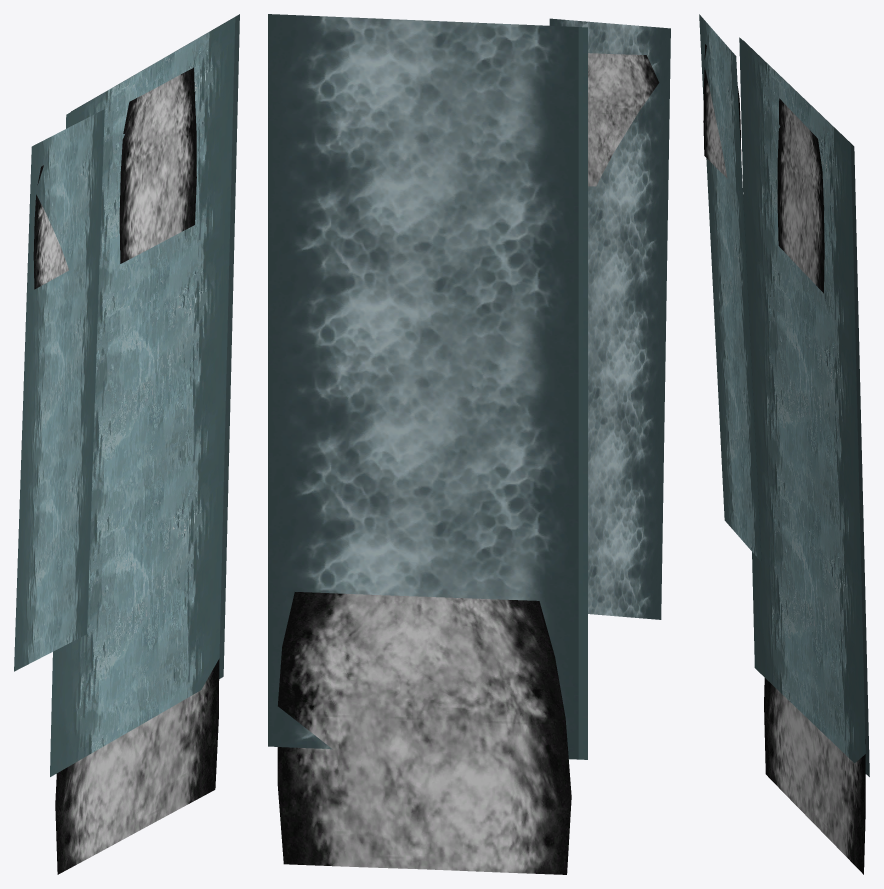
The model's file is dragonblight_combin_waterfall_06.obj.
The picture shows the model from 3 angles, left to right: view 1: azimuth 30°, elevation 25°; view 2: azimuth 150°, elevation 25°; view 3: azimuth 270°, elevation 25°; orthographic projection. The views are drawn at different scales.
Parts seen in each view (by area): view 1: Geoset0, Geoset2, Geoset4, Geoset1, Geoset5; view 2: Geoset5, Geoset4, Geoset3, Geoset0, Geoset1; view 3: Geoset0, Geoset2, Geoset4, Geoset1, Geoset5.
Boxes of the visible parts, x1,y1,x2,y2 form: Geoset0: (50,17,235,776); Geoset2: (14,109,104,671); Geoset4: (55,659,219,874); Geoset1: (33,67,196,289); Geoset5: (71,14,239,678); Geoset5: (268,14,578,759); Geoset4: (277,592,571,874); Geoset3: (549,18,670,619); Geoset0: (578,27,587,759); Geoset1: (588,53,659,186); Geoset0: (739,37,866,774); Geoset2: (699,14,761,561); Geoset4: (764,678,865,874); Geoset1: (703,44,824,293); Geoset5: (743,40,869,776).
Size of the model in its own units: 106 by 267 by 55.95.
3 materials, 3 textured.
